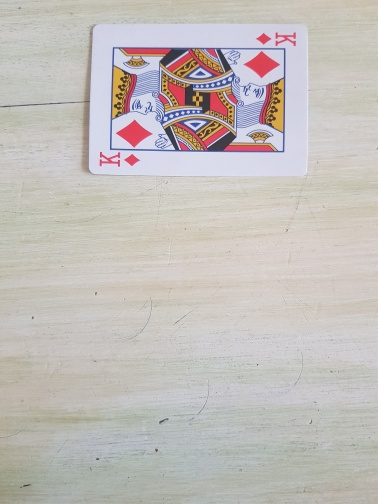king: (86, 23, 309, 178)
